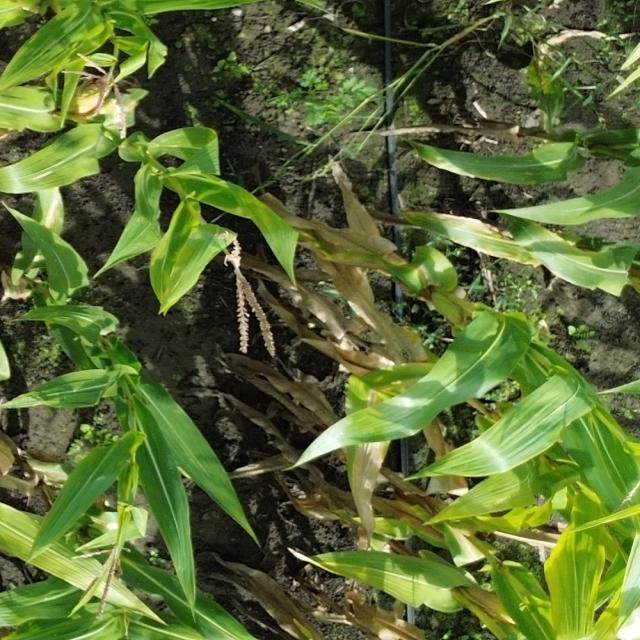gray-leaf-spot: (16, 133, 86, 197)
northern-leaf-blight: (286, 227, 448, 302), (416, 203, 557, 275)
southern-leaf-blight: (10, 366, 107, 423)
